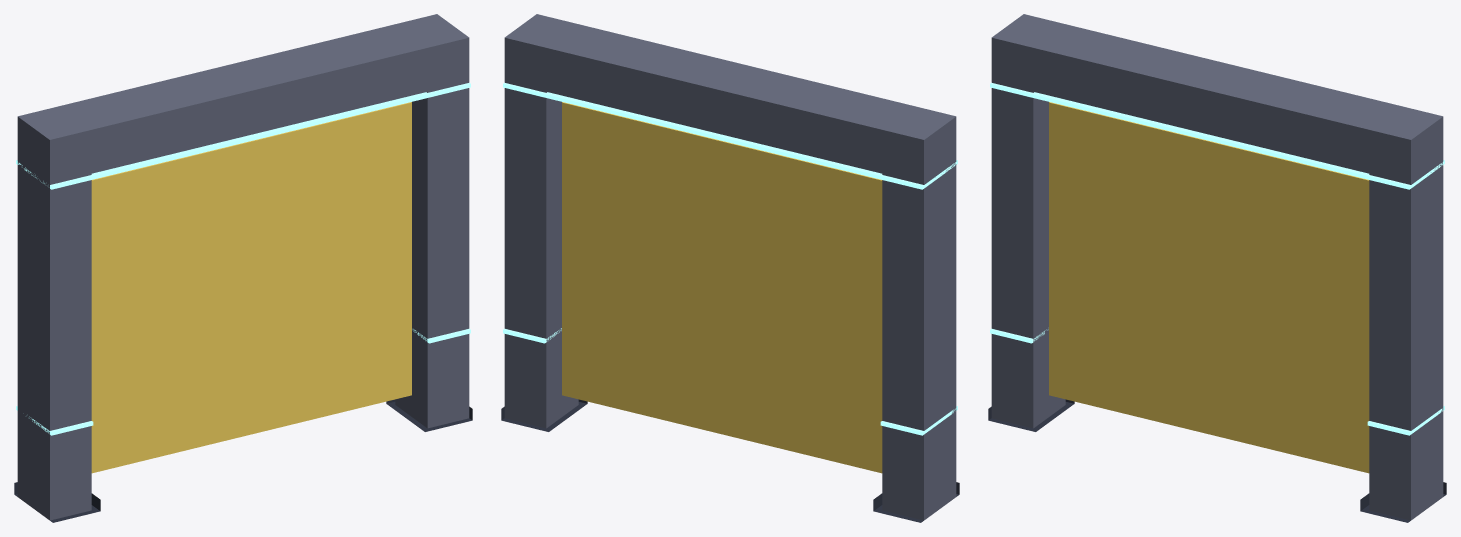
The model's file is SM_Spawn_Gate.fbx.
The picture shows the model from 3 angles, left to right: view 1: azimuth 30°, elevation 25°; view 2: azimuth 150°, elevation 25°; view 3: azimuth 330°, elevation 25°; orthographic projection.
Parts seen in each view (by area): view 1: SM_Spawn_Gate; view 2: SM_Spawn_Gate; view 3: SM_Spawn_Gate.
Boxes of the visible parts, left/top/right/bottom form: SM_Spawn_Gate: left=14, top=14, right=472, bottom=522; SM_Spawn_Gate: left=501, top=14, right=959, bottom=522; SM_Spawn_Gate: left=988, top=14, right=1446, bottom=522.
Bounding box in the file's own units: 48 × 300 × 260.
